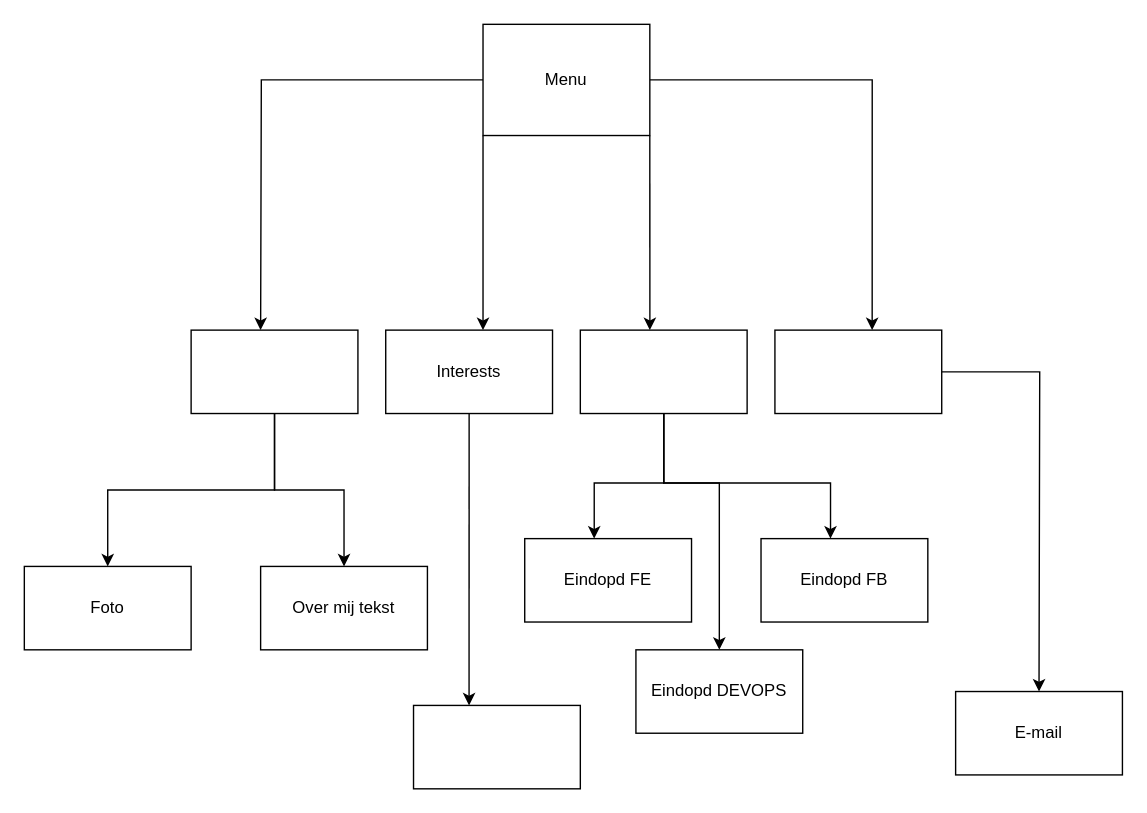
Some shapes in this 1147 by 813 pixel diagram are drawn without their labels. Here are the shapes that lost their labels. From the top down, the box of each, then its label:
(190, 329, 358, 414): About
(579, 329, 747, 414): Projects
(774, 329, 942, 414): Contact
(412, 704, 580, 789): Dieper ingaan op eventuele hobby's
